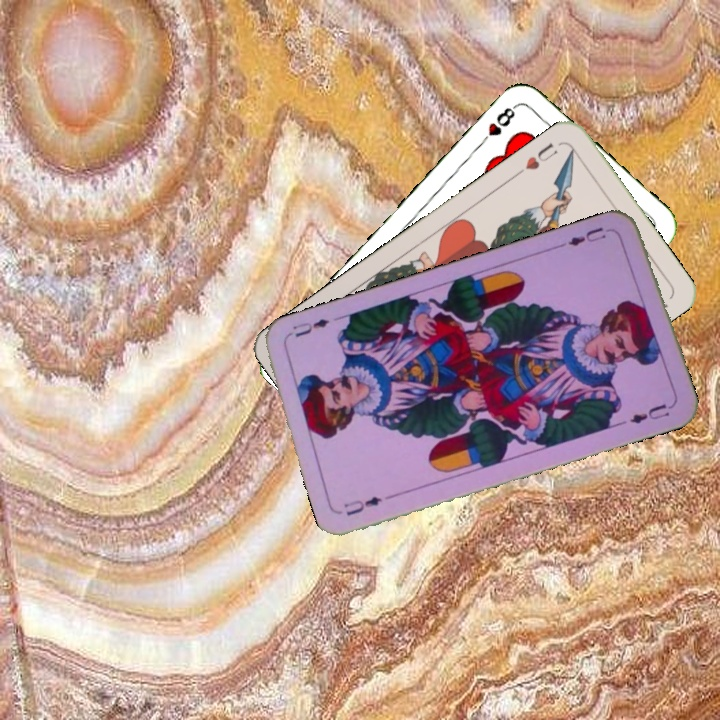EU: (558, 223, 616, 250), (340, 492, 385, 519)
H8: (476, 100, 521, 148)
HU: (521, 138, 561, 173)
